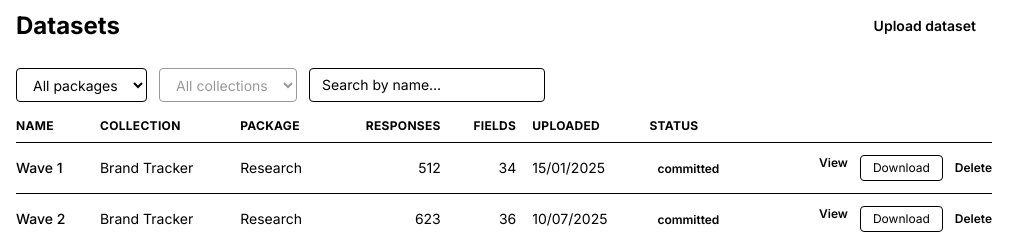
Test: filters datasets by search text
Type "Wave 1" into the search field at (427, 85), box left=309, top=68, right=545, bottom=102
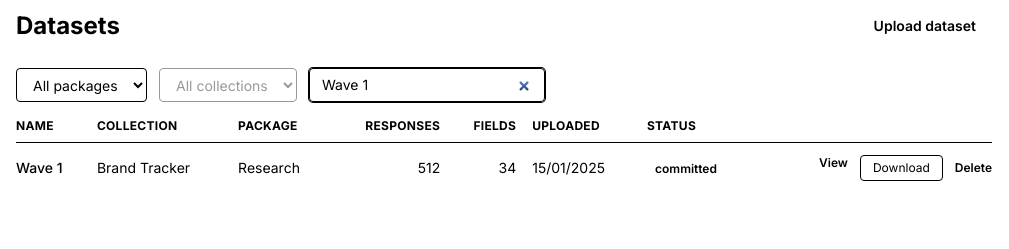
Expected: the text "Wave 1" is shown, left=16, top=142, right=97, bottom=193
Expected: the text "Wave 2" is gone
